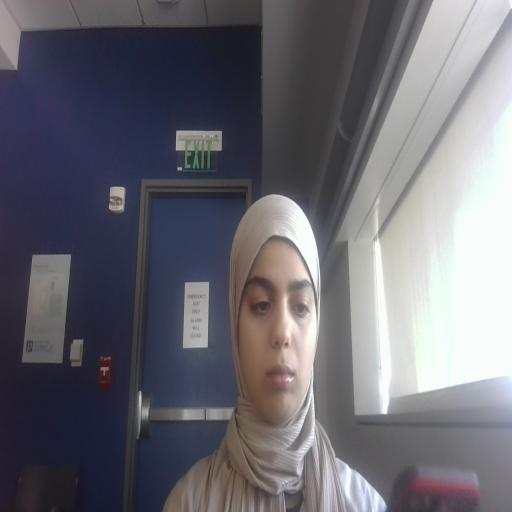phone: (374, 427, 502, 512)
